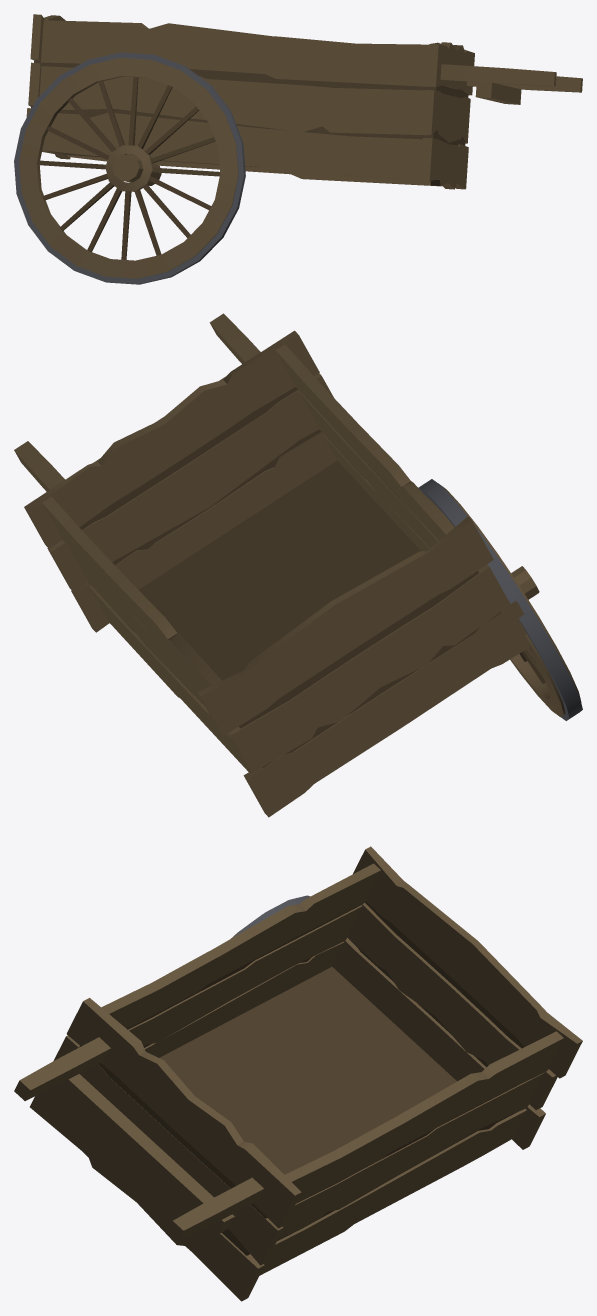
The model's file is Cart.glb.
3 renders of one model, top to bottom at view 1: azimuth 30°, elevation 25°; view 2: azimuth 150°, elevation 25°; view 3: azimuth 270°, elevation 25°, orthographic. The views are drawn at different scales.
Visible parts, largest first — view 1: Cart_Cube.350; view 2: Cart_Cube.350; view 3: Cart_Cube.350.
Boxes of the visible parts, x1,y1,x2,y2 form: Cart_Cube.350: [14, 14, 582, 284]; Cart_Cube.350: [14, 313, 582, 817]; Cart_Cube.350: [14, 846, 582, 1301].
Bounding box in the file's own units: 3.31 × 1.38 × 2.83.
